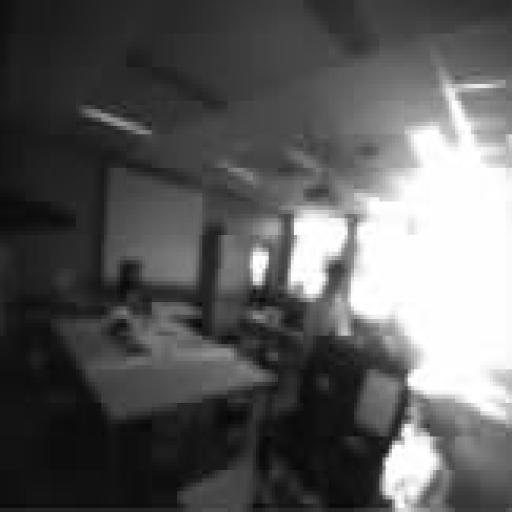human: (304, 261, 350, 339)
